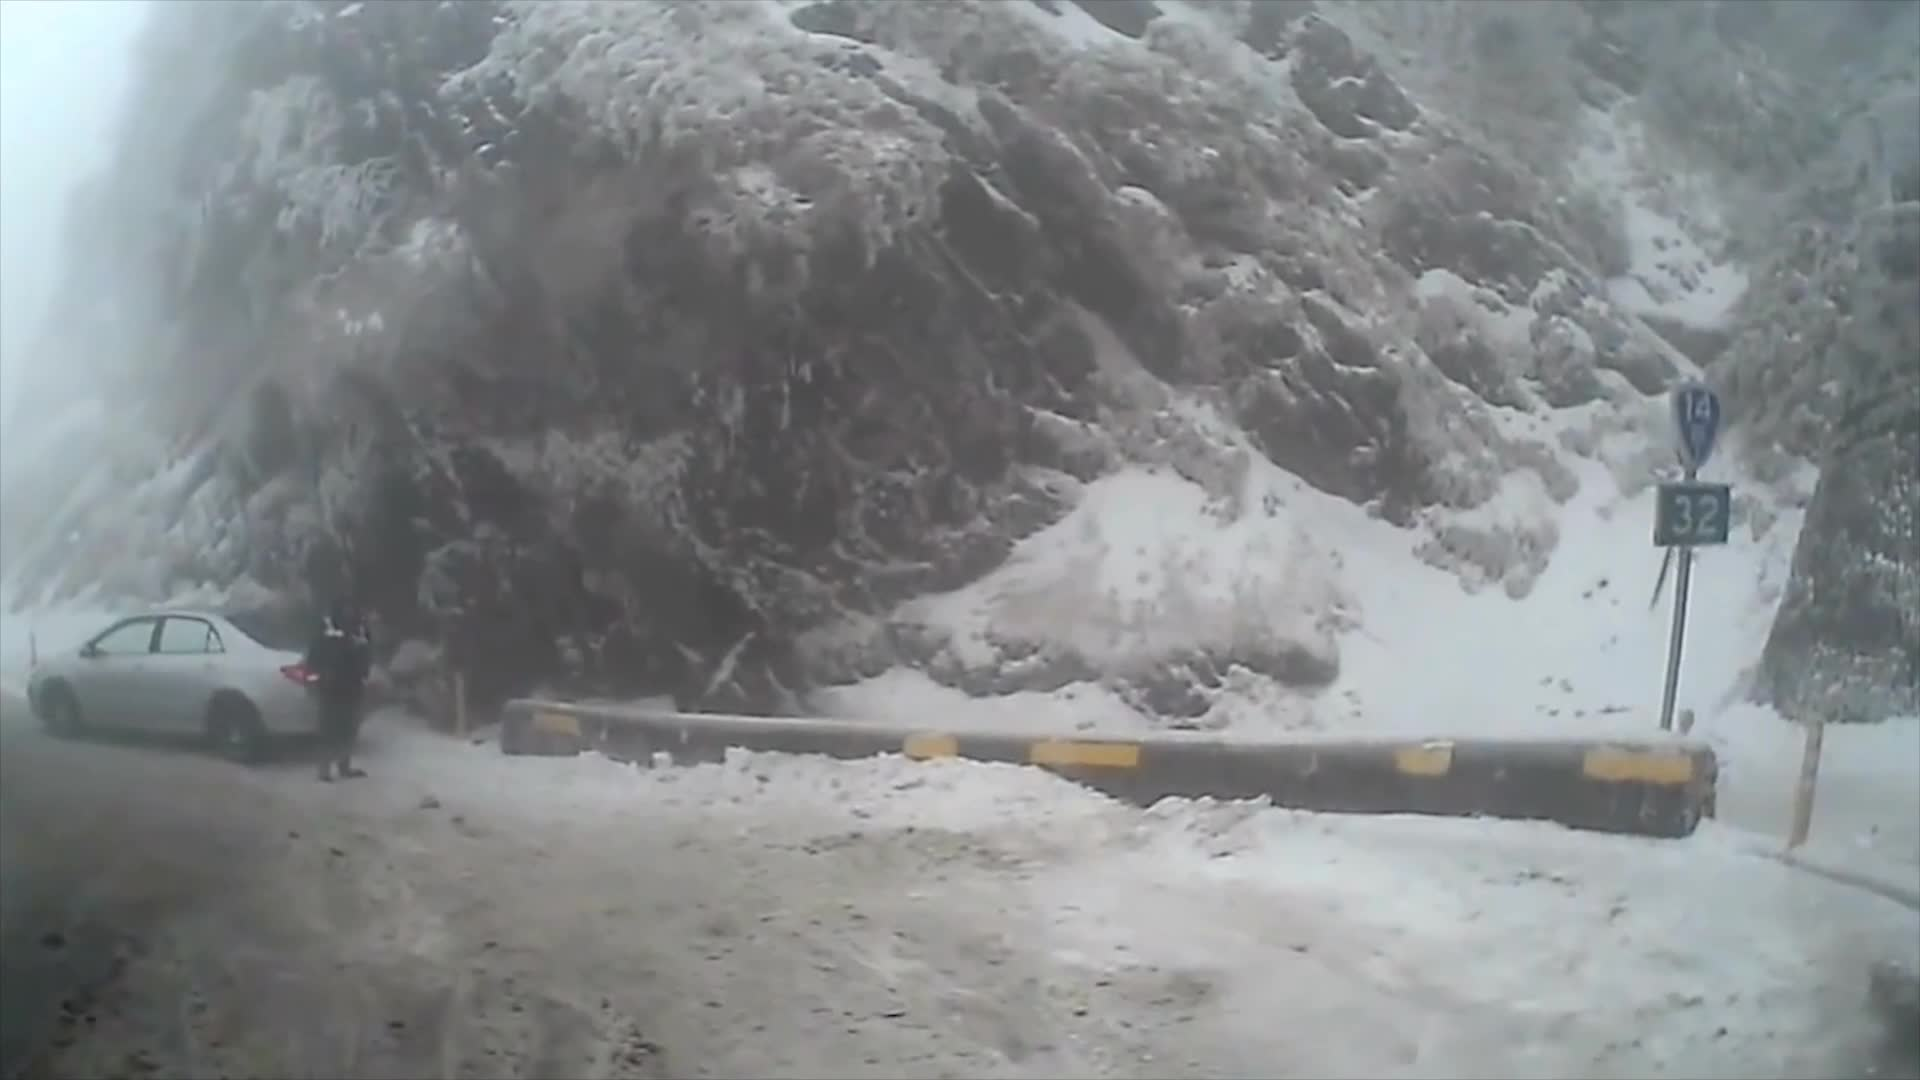pedestrian: (301, 584, 375, 780)
vehicle: (24, 601, 359, 764)
